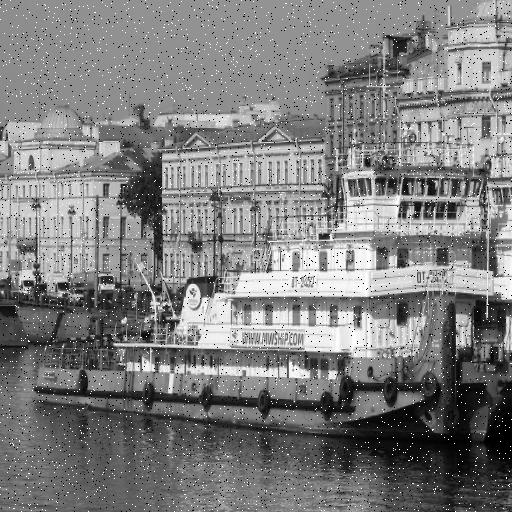tugboat: (32, 137, 512, 458)
